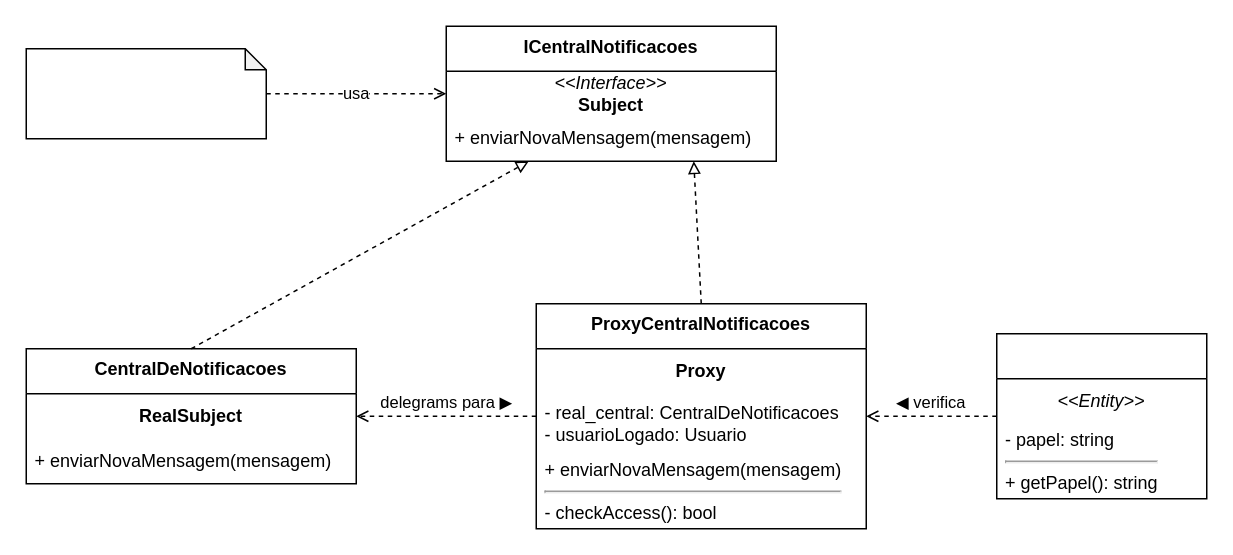
Some shapes in this 1233 by 555 pixel diagram are drawn without their labels. Here are the shapes that lost their labels. From the top down, the box of each, then its label:
(25, 47, 266, 139): Cliente (Ex: EnviarNotificacaoCommand)
(995, 332, 1207, 499): Usuario
